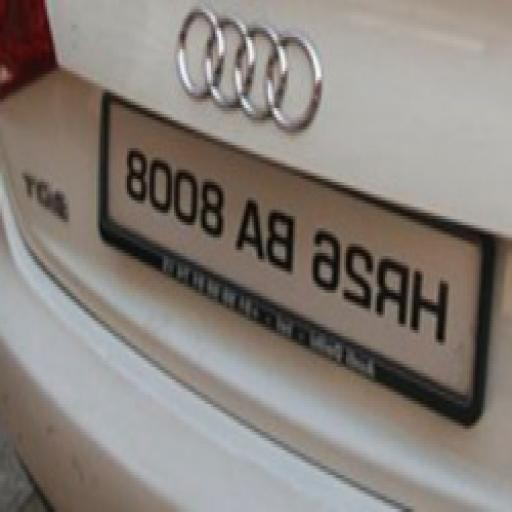License: (110, 83, 486, 395)
